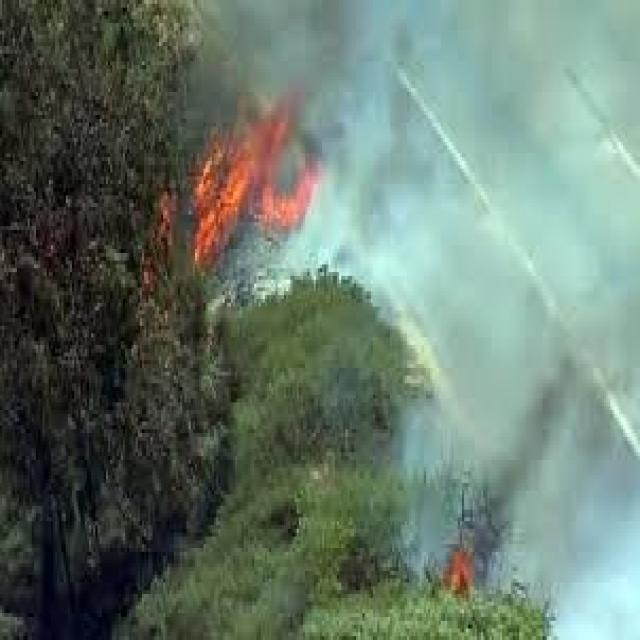fire: (160, 98, 324, 255)
